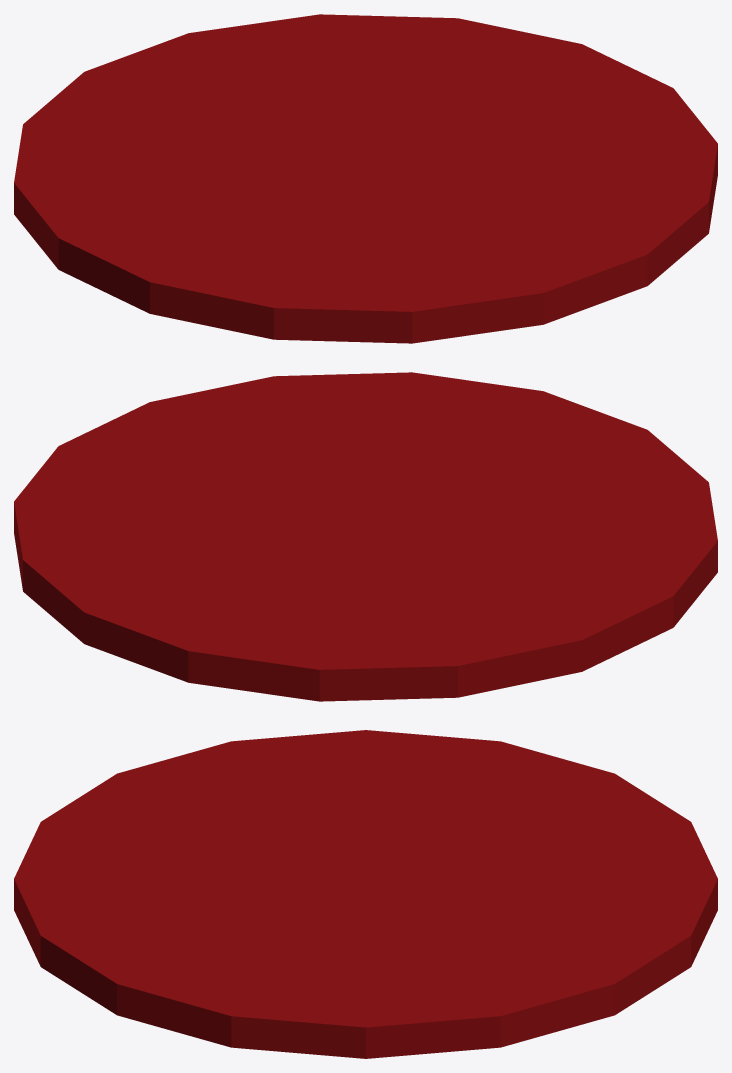
The model's file is Platform.obj.
The picture shows the model from 3 angles, top to bottom: view 1: azimuth 30°, elevation 25°; view 2: azimuth 150°, elevation 25°; view 3: azimuth 270°, elevation 25°; orthographic projection.
Visible parts, largest first — view 1: Platform; view 2: Platform; view 3: Platform.
Part boxes in pixels (x1,y1,x2,y2): Platform: (14,14,717,343); Platform: (14,372,717,701); Platform: (14,730,717,1058).
Size of the model in its own units: 6.5 by 0.32 by 6.5.
